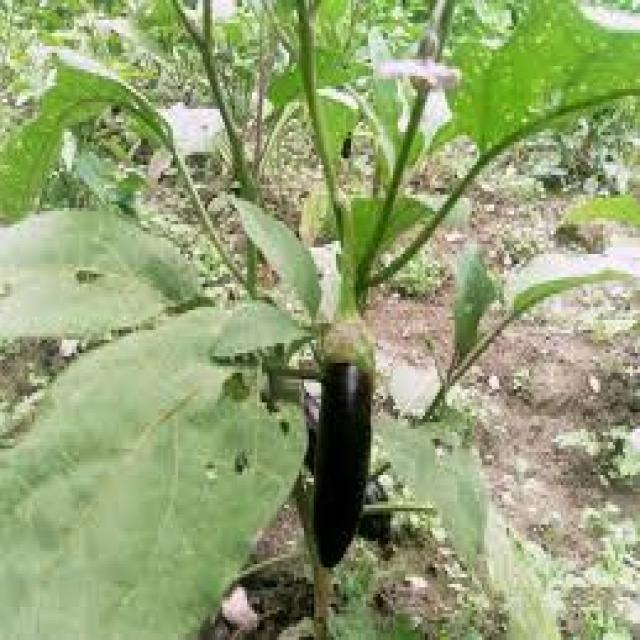Eggplant: (307, 241, 378, 571)
